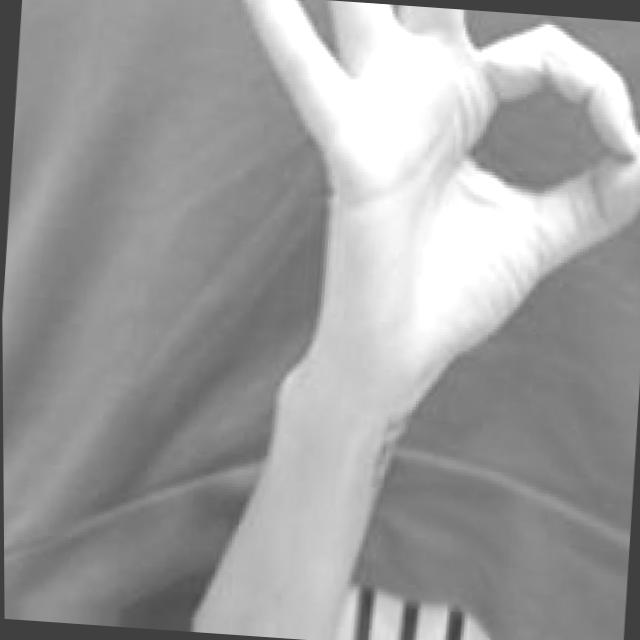O: (199, 0, 640, 458)
